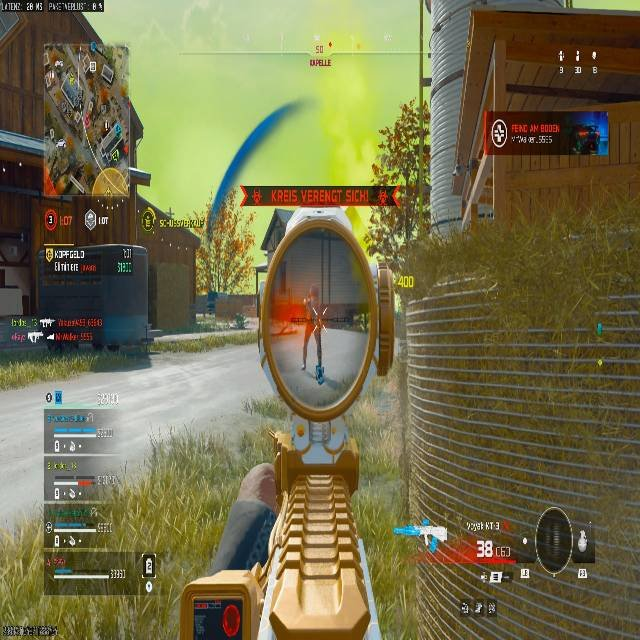player: (575, 123, 600, 153)
